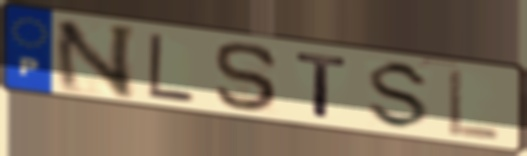L: (445, 66, 503, 143), (145, 30, 198, 106)
N: (51, 19, 139, 101)
S: (212, 39, 283, 115), (363, 60, 435, 132)
T: (293, 50, 352, 121)
